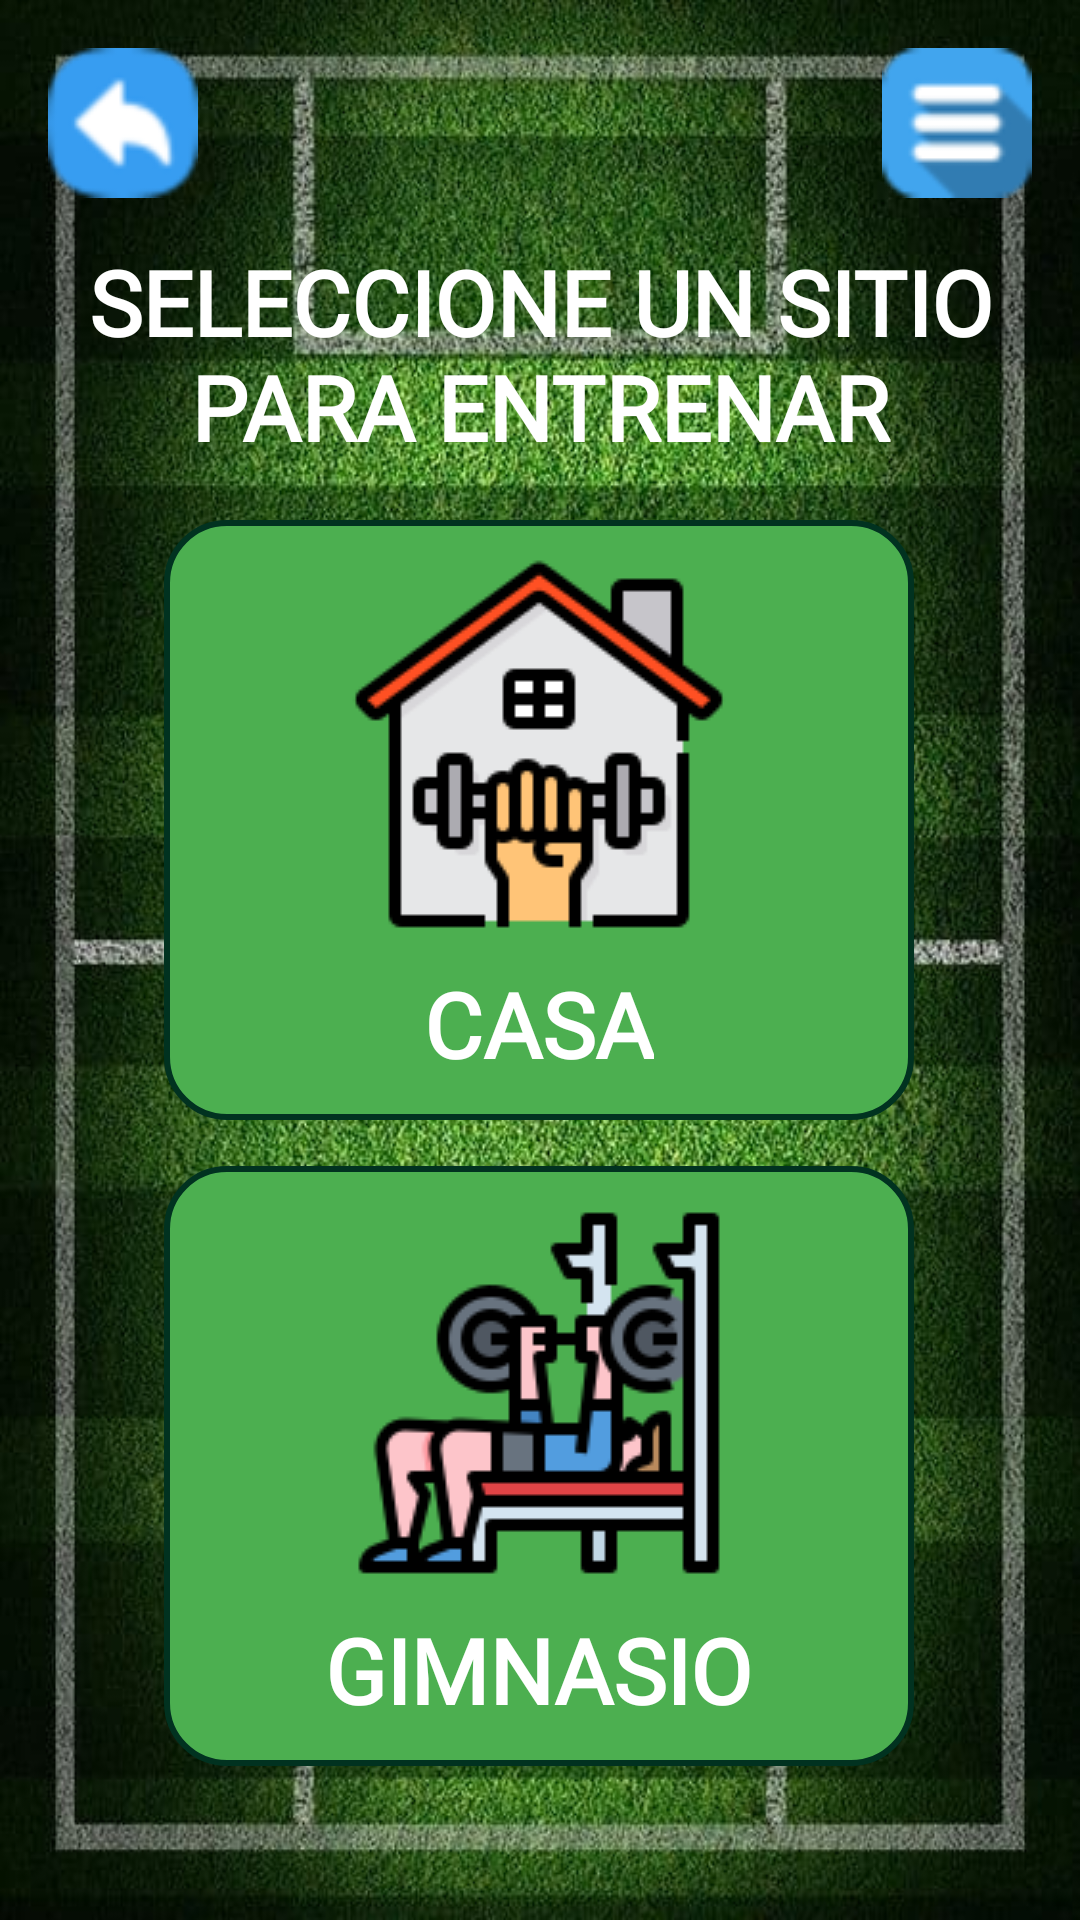

Where to tap for icons on this 1080*1920 app screen, as (x,y):
atras: (123,123)
burger menu: (957,123)
